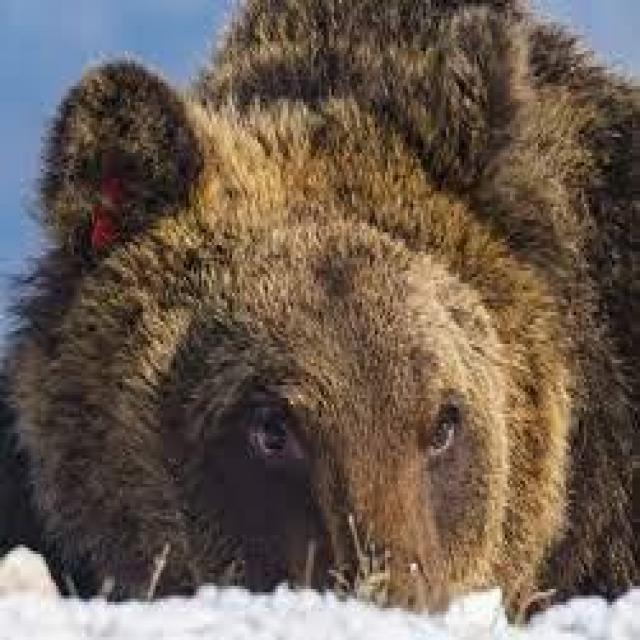Bear: (0, 0, 640, 627)
